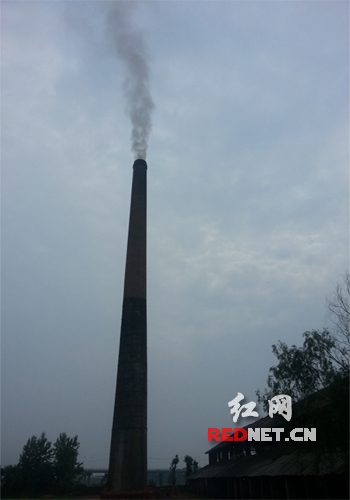dust: (99, 13, 177, 164)
